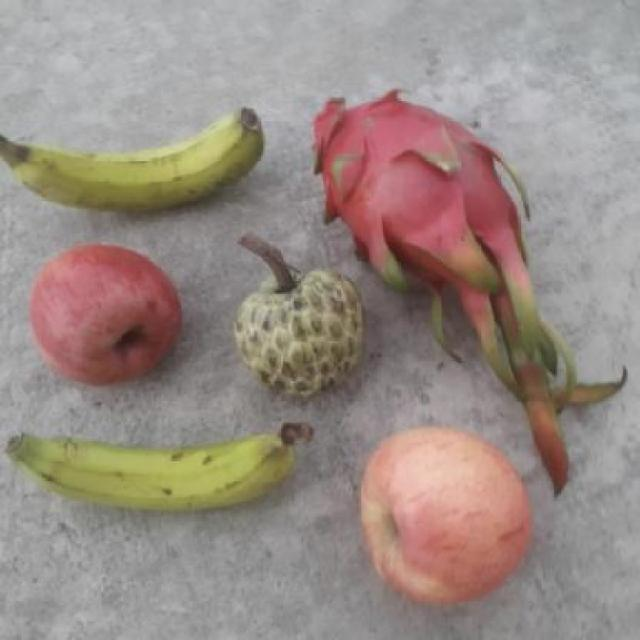apple: (349, 424, 537, 611), (14, 241, 189, 401)
banana: (0, 99, 271, 216), (0, 416, 314, 513)
dragon fruit: (303, 85, 534, 310)
sugar apple: (231, 266, 371, 402)
